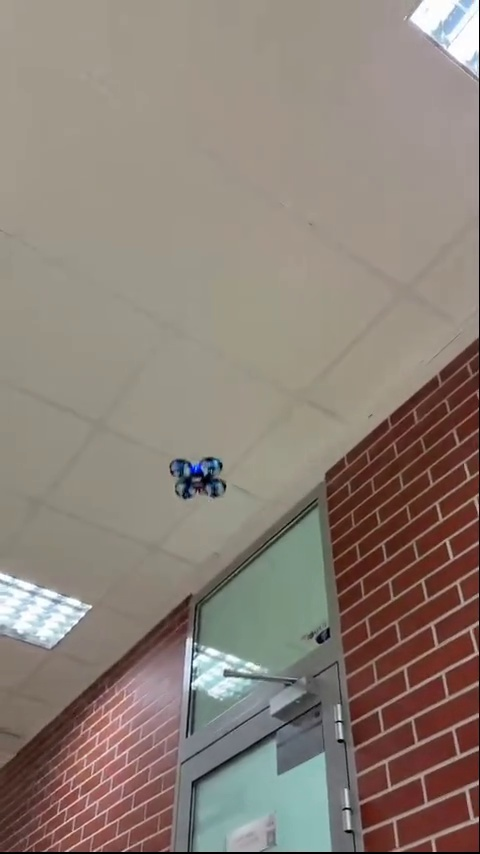drone: (170, 458, 227, 505)
